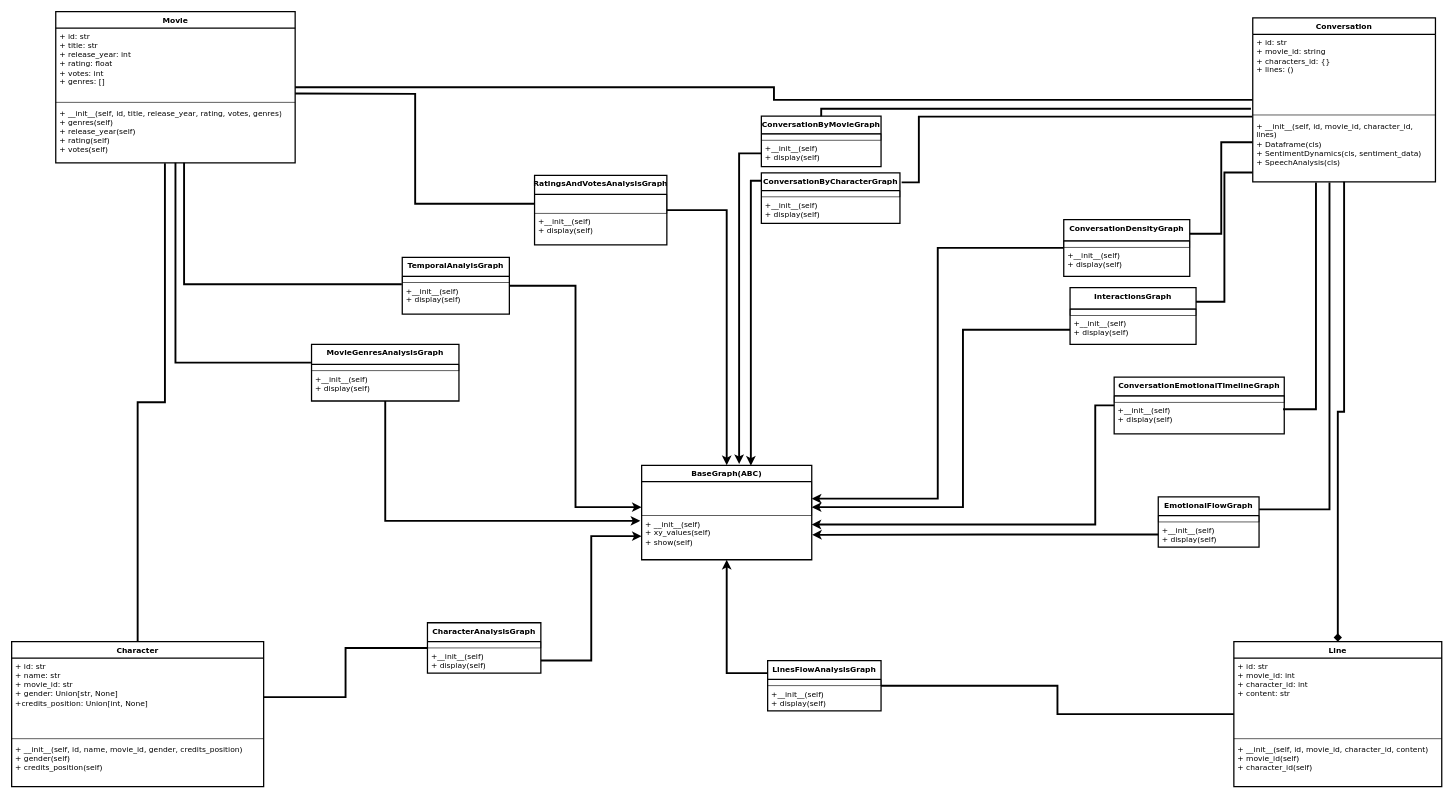
This 1453x799 diagram has some shape labels left out. Here are the shapes that lost their labels. From the top down, the centre of each, then its label:
point 600,203: + color
point 726,498: + title: str + xlabel: str + ylabel: str
